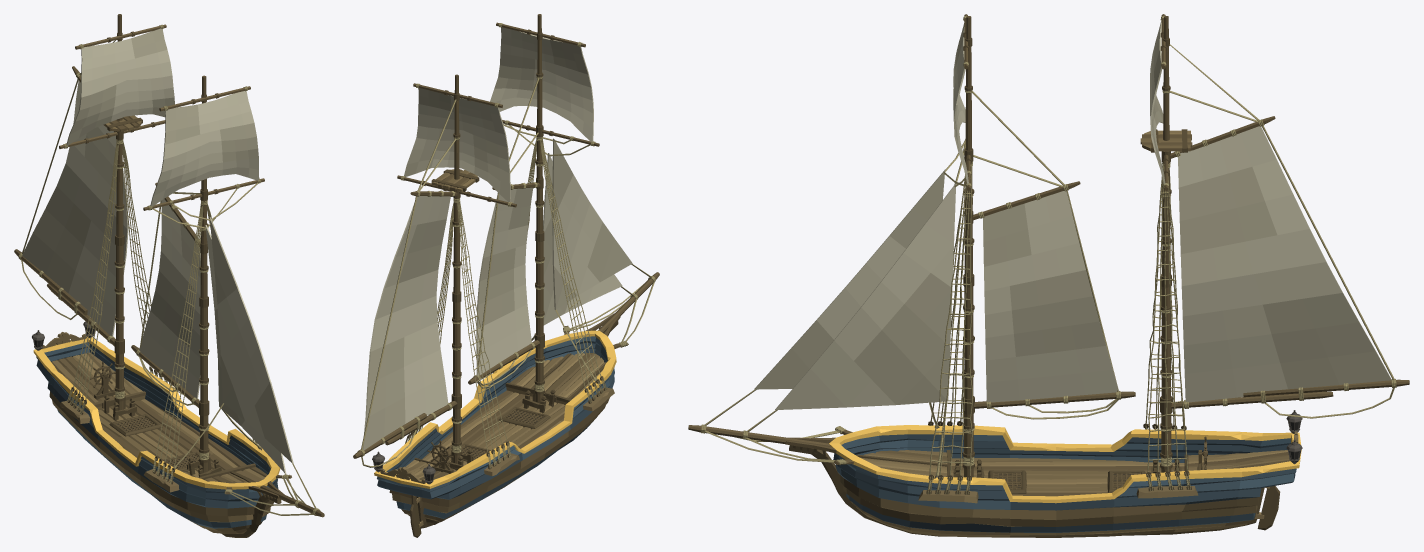
The model's file is MediumShip_1.fbx.
The picture shows the model from 3 angles, left to right: view 1: azimuth 30°, elevation 25°; view 2: azimuth 150°, elevation 25°; view 3: azimuth 270°, elevation 25°; orthographic projection. The views are drawn at different scales.
Visible parts, largest first — view 1: MediumShip_1, MediumShip_1_Sails3, MediumShip_1_Sails2, MediumShip_1_Sails1, MediumShip_1_Mast2, MediumShip_1_Mast1; view 2: MediumShip_1, MediumShip_1_Sails3, MediumShip_1_Sails2, MediumShip_1_Sails1, MediumShip_1_Mast2, MediumShip_1_Mast1; view 3: MediumShip_1, MediumShip_1_Sails3, MediumShip_1_Sails1, MediumShip_1_Sails2, MediumShip_1_Mast2, MediumShip_1_Mast1.
Part boxes in pixels (x1=…): MediumShip_1: x1=32, y1=140, x2=324, y2=537; MediumShip_1_Sails3: x1=22, y1=28, x2=174, y2=336; MediumShip_1_Sails2: x1=139, y1=91, x2=259, y2=398; MediumShip_1_Sails1: x1=205, y1=217, x2=293, y2=473; MediumShip_1_Mast2: x1=14, y1=14, x2=166, y2=416; MediumShip_1_Mast1: x1=131, y1=75, x2=264, y2=472; MediumShip_1: x1=372, y1=139, x2=659, y2=537; MediumShip_1_Sails3: x1=362, y1=88, x2=510, y2=450; MediumShip_1_Sails2: x1=476, y1=27, x2=593, y2=375; MediumShip_1_Sails1: x1=543, y1=138, x2=632, y2=325; MediumShip_1_Mast2: x1=353, y1=74, x2=516, y2=467; MediumShip_1_Mast1: x1=468, y1=14, x2=599, y2=409; MediumShip_1: x1=688, y1=163, x2=1302, y2=537; MediumShip_1_Sails3: x1=1150, y1=20, x2=1391, y2=402; MediumShip_1_Sails1: x1=754, y1=169, x2=956, y2=409; MediumShip_1_Sails2: x1=953, y1=23, x2=1118, y2=402; MediumShip_1_Mast2: x1=1140, y1=14, x2=1409, y2=472; MediumShip_1_Mast1: x1=943, y1=14, x2=1135, y2=477.
Bounding box in the file's own units: 718 × 2542 × 3190.
